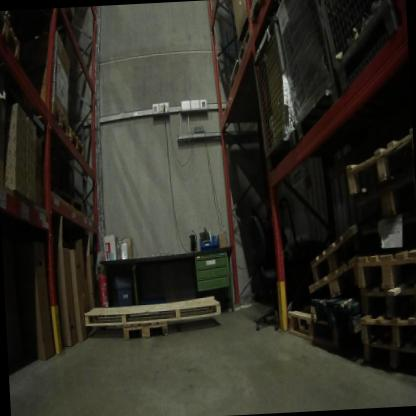pallet: (80, 290, 224, 338), (344, 123, 414, 205), (304, 213, 369, 295), (348, 234, 416, 290), (352, 307, 416, 356), (302, 249, 360, 302), (350, 279, 416, 322), (352, 347, 416, 383), (305, 286, 357, 326), (280, 296, 322, 344), (116, 316, 175, 350), (33, 102, 76, 147), (234, 25, 270, 76), (225, 62, 270, 95), (68, 123, 87, 163)
stillage: (269, 0, 334, 144), (311, 0, 399, 106), (249, 8, 300, 169)
